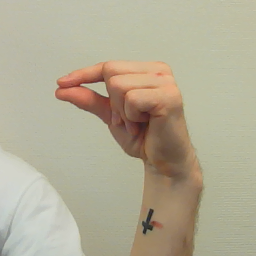S: (52, 58, 203, 178)
